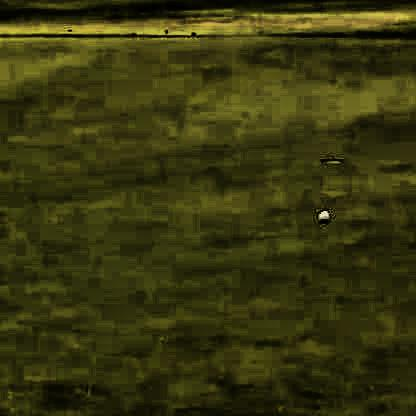golfball: (315, 207, 329, 222)
